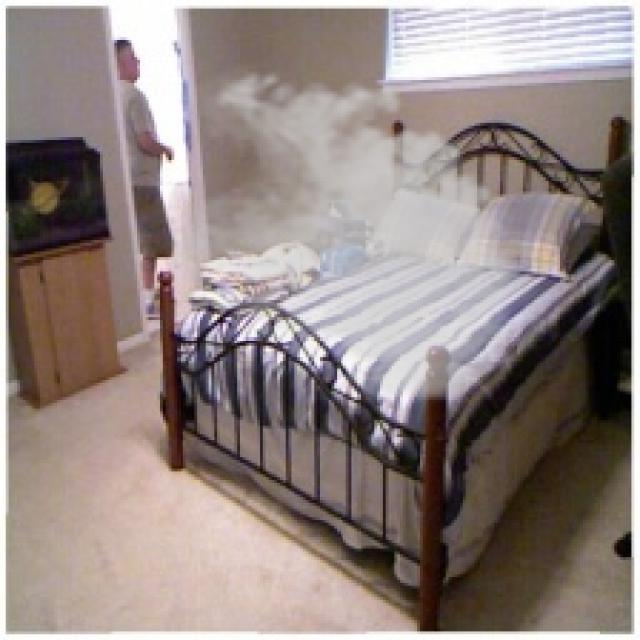smoke: (171, 60, 543, 409)
